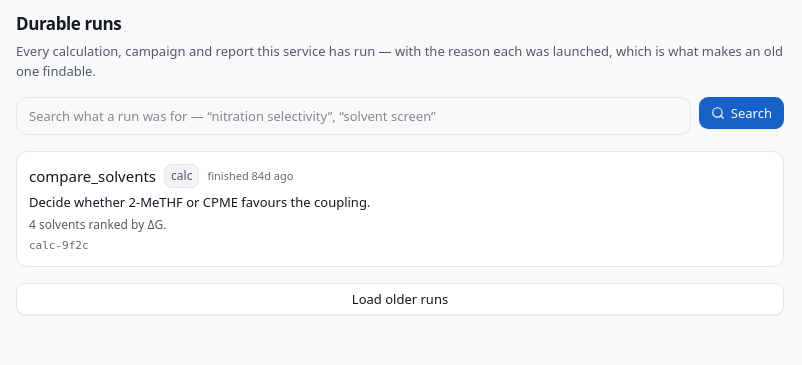
JobsPanel › says an older page failed beside the control that fetches it
This screenshot has width=802, height=365.
Click the button "Load older runs".
click(400, 299)  # box [16,283,784,315]
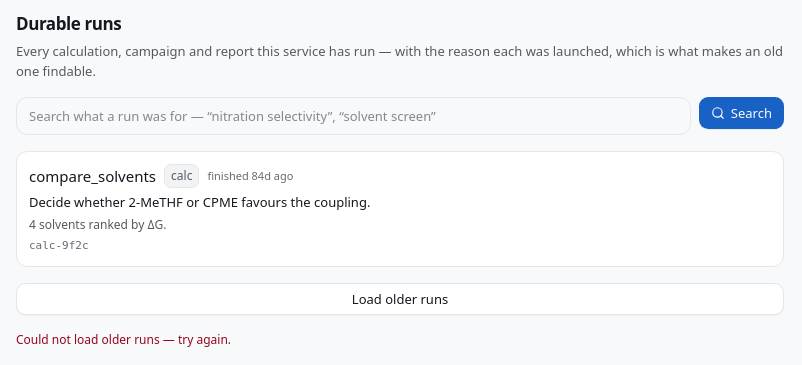
Expected: the text "compare_solvents" is shown, [29,164,156,188]
Now the message shows "Could not load older runs", box [16,331,231,348]
